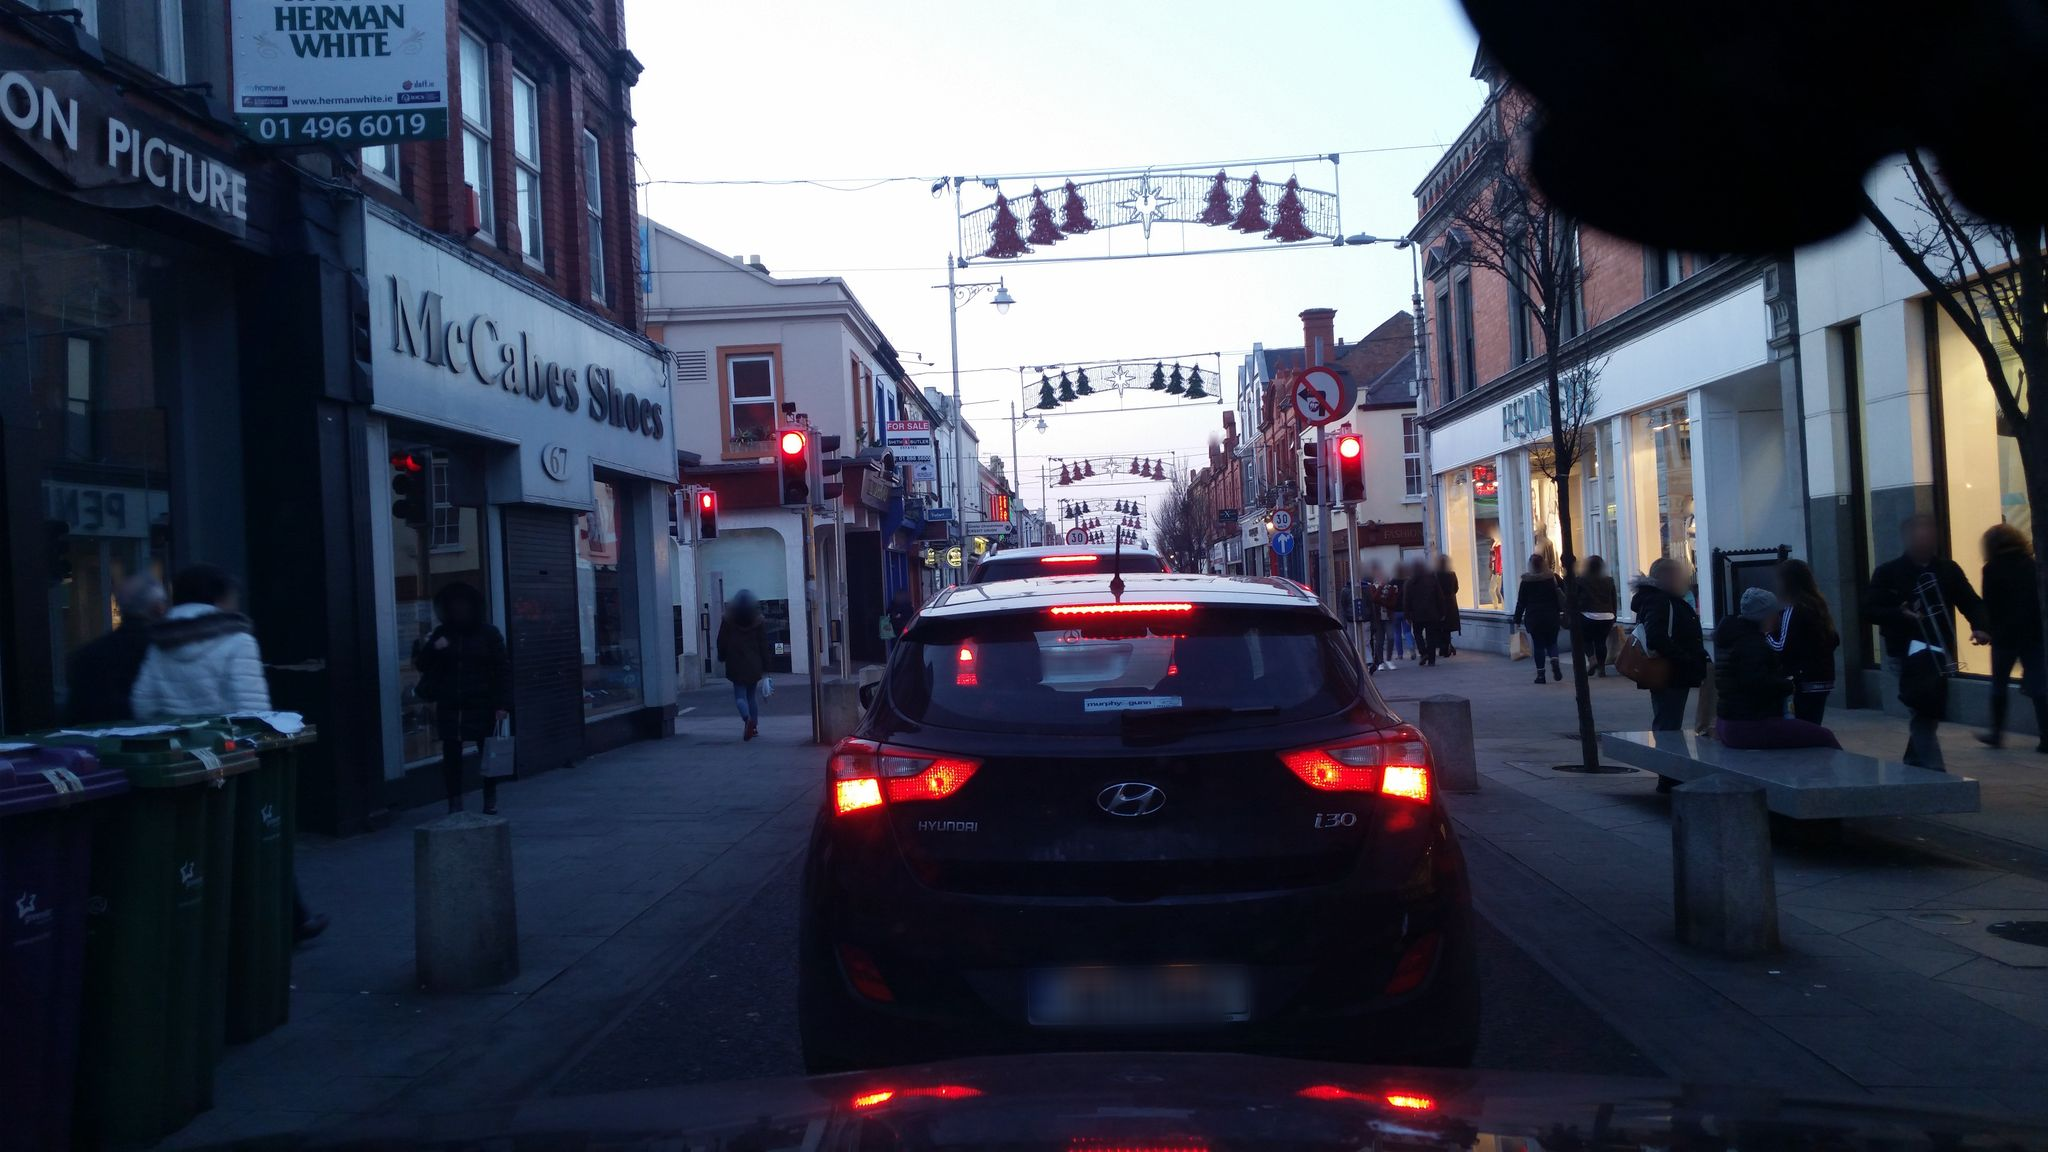property sign: (210, 1, 457, 162), (876, 398, 949, 485)
